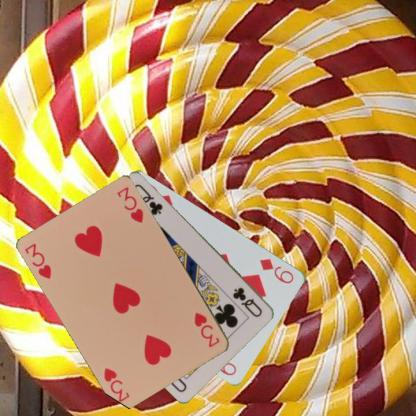3h: (23, 240, 53, 281), (191, 310, 221, 349)
9d: (257, 255, 295, 285)
Qc: (230, 284, 263, 318)
